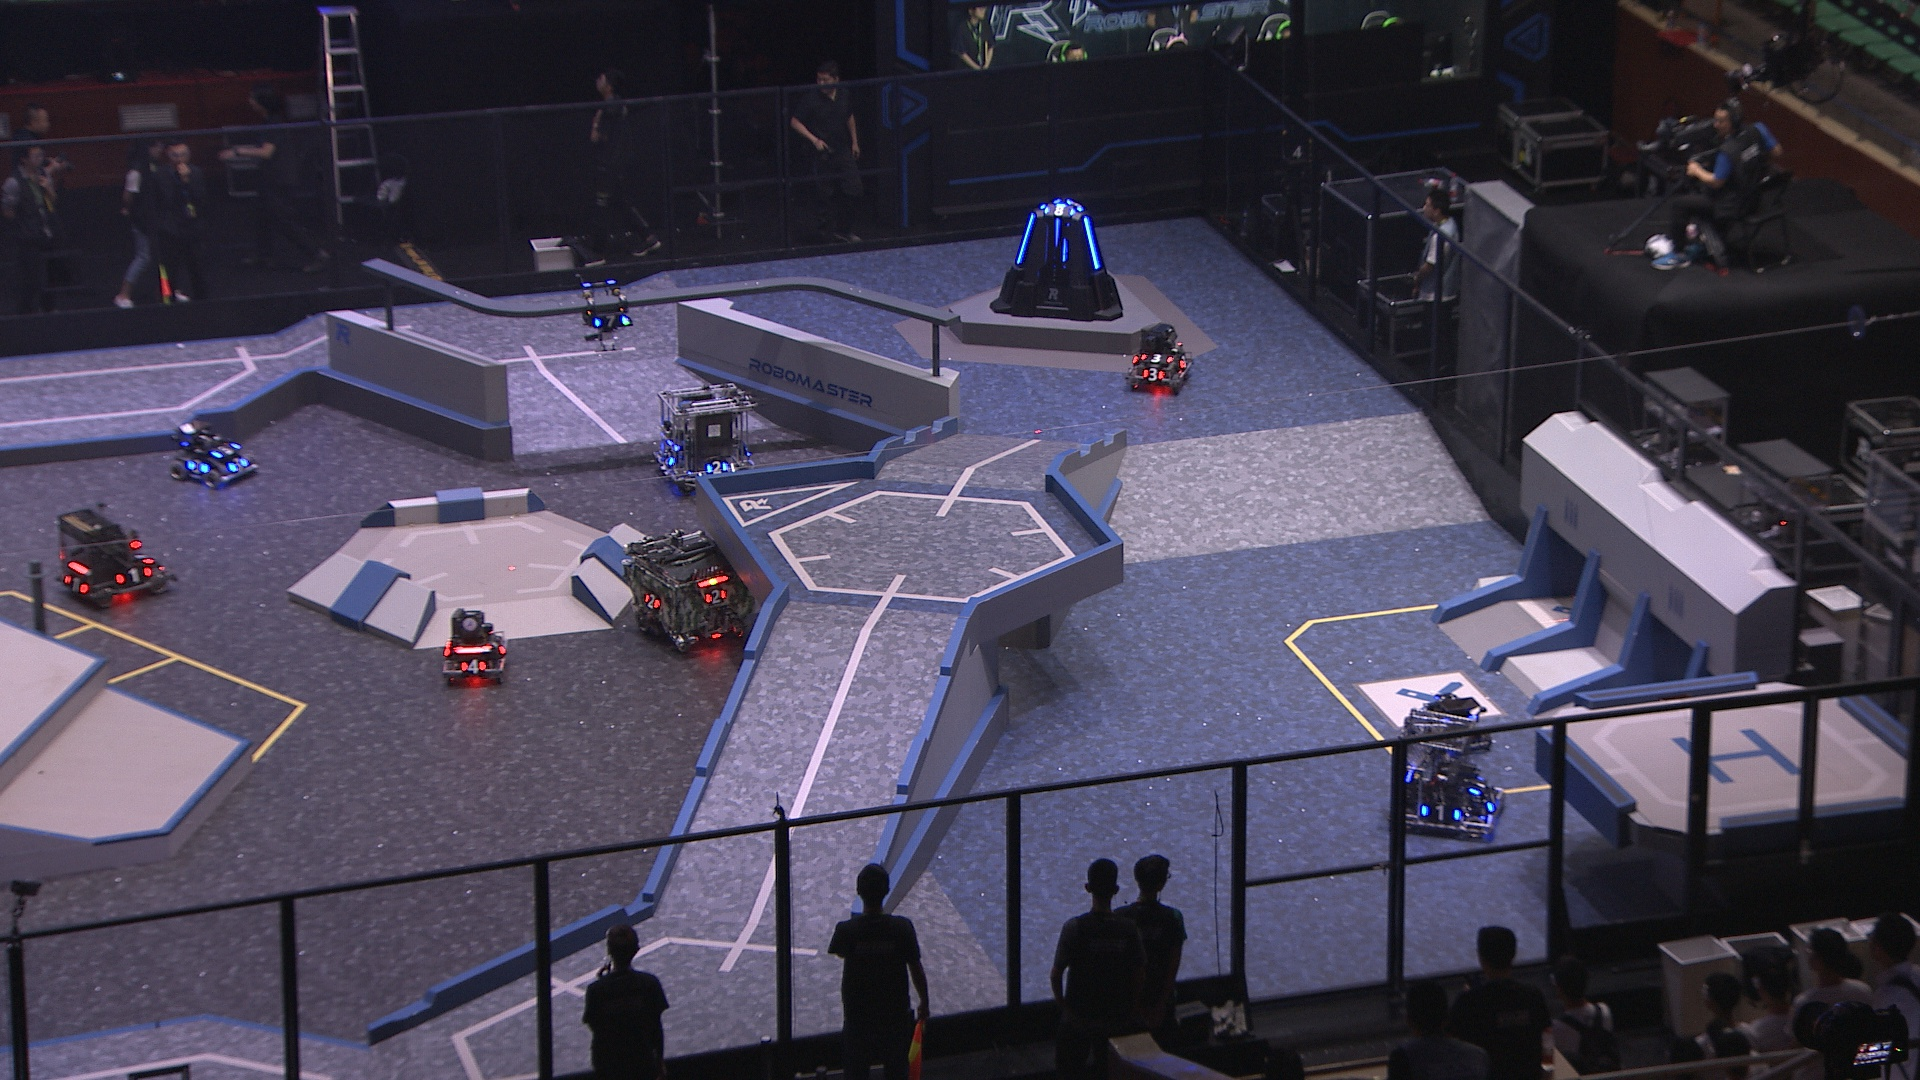armor: (1011, 214, 1039, 264), (1081, 215, 1101, 273), (1419, 803, 1460, 823), (115, 564, 152, 584), (593, 313, 632, 328), (63, 575, 88, 597), (1043, 202, 1076, 218), (462, 655, 487, 675), (1141, 351, 1172, 365), (189, 458, 210, 479), (1486, 787, 1501, 815), (704, 458, 728, 473), (214, 442, 237, 458), (1051, 218, 1063, 249), (642, 591, 661, 611), (659, 447, 674, 472), (703, 589, 727, 604), (1143, 367, 1166, 381), (228, 458, 247, 473), (135, 550, 153, 564), (1178, 353, 1191, 371)
base: (986, 195, 1125, 324)
car: (622, 526, 769, 655), (1391, 711, 1503, 841), (654, 380, 764, 502), (49, 509, 179, 609), (1422, 688, 1501, 764), (167, 423, 257, 489), (440, 608, 512, 684), (1126, 324, 1195, 396)
watcher: (578, 278, 636, 343)
